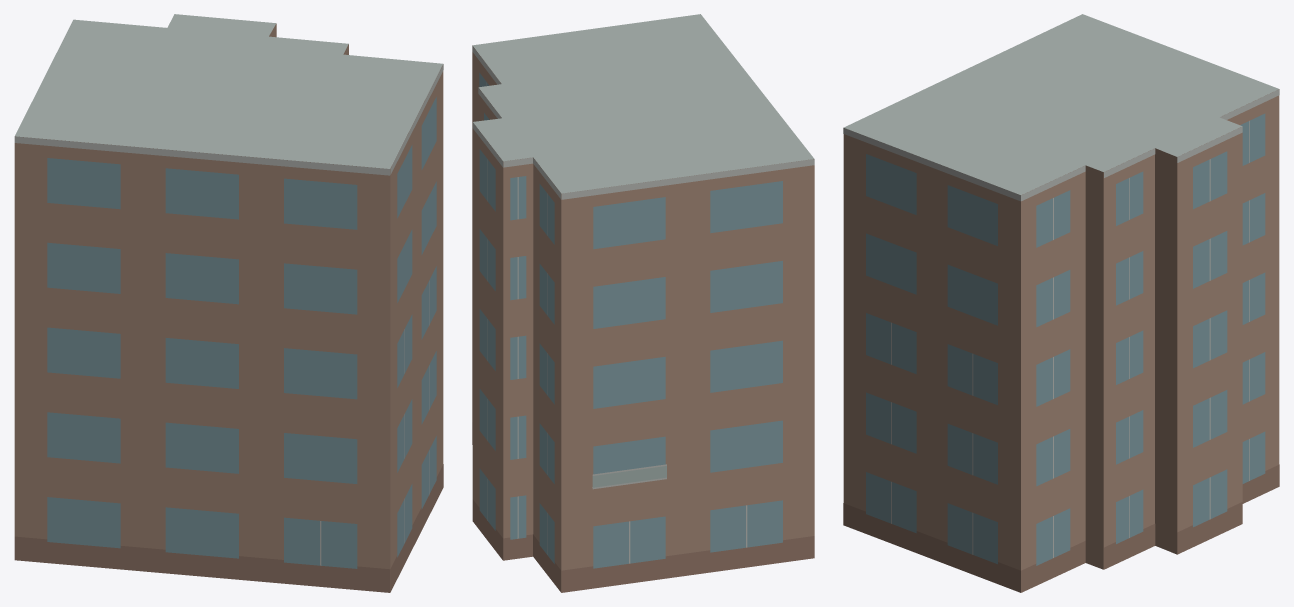
The model's file is survey-upis-32529437.glb.
3 views of the same model, side by side, from view 1: azimuth 30°, elevation 25°; view 2: azimuth 150°, elevation 25°; view 3: azimuth 270°, elevation 25° (orthographic). The views are drawn at different scales.
Parts seen in each view (by area): view 1: survey-upis-32529437.tmp; view 2: survey-upis-32529437.tmp; view 3: survey-upis-32529437.tmp.
Part boxes in pixels (x1,y1,x2,y2): survey-upis-32529437.tmp: (14,14,443,592); survey-upis-32529437.tmp: (472,14,814,592); survey-upis-32529437.tmp: (843,14,1279,592).
Bounding box in the file's own units: 15.26 × 15.6 × 15.51.
